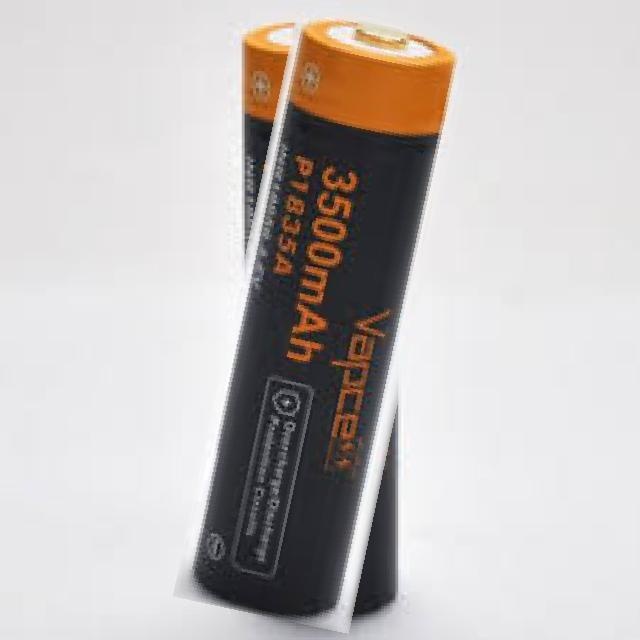Battery: (190, 18, 462, 615), (239, 24, 406, 635)
